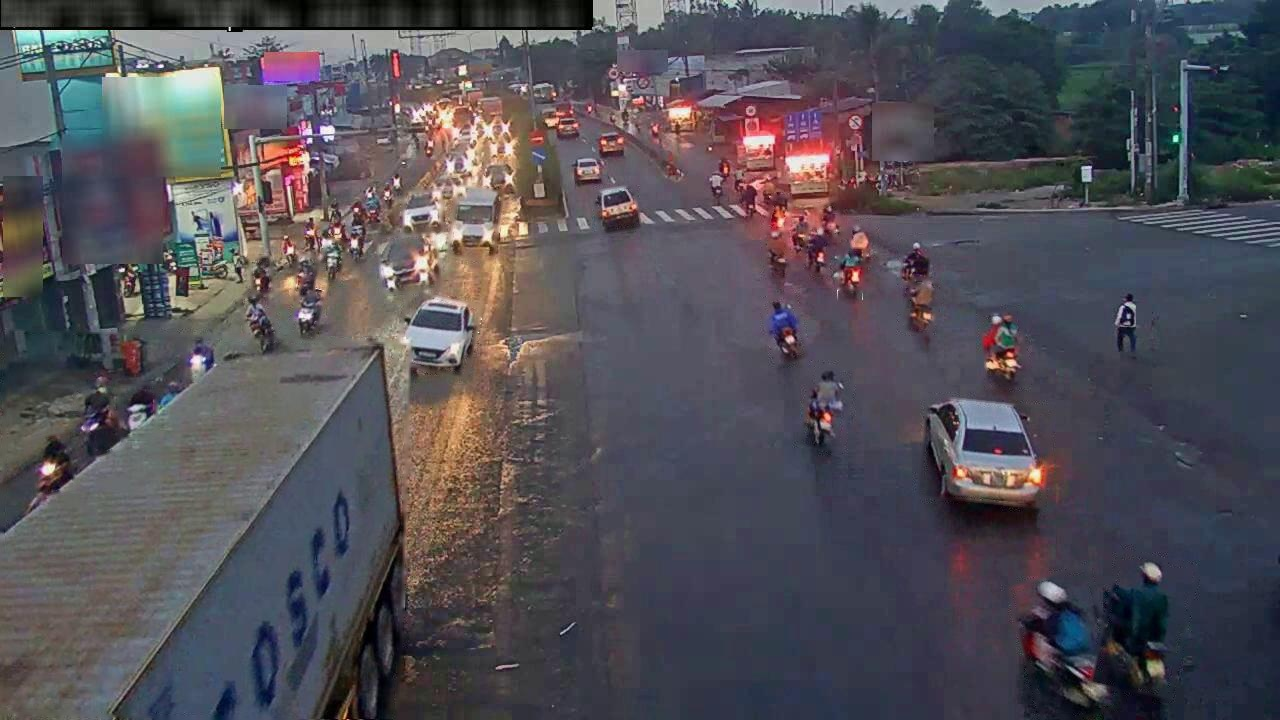Car: (924, 398, 1045, 508), (404, 297, 478, 373), (379, 233, 438, 289), (598, 187, 639, 230), (402, 194, 440, 230), (485, 163, 514, 191), (573, 157, 601, 184), (598, 132, 624, 156), (556, 114, 579, 137), (540, 106, 558, 128)
Motorcycle: (80, 408, 126, 458), (908, 304, 933, 340), (188, 350, 212, 383), (297, 303, 321, 335), (325, 248, 341, 280)
Motorcyclist: (1019, 580, 1109, 709), (1100, 561, 1168, 715), (806, 370, 843, 446), (833, 227, 870, 299), (984, 313, 1020, 381), (38, 437, 73, 493), (769, 300, 801, 358), (245, 294, 274, 353), (125, 384, 157, 431), (901, 242, 930, 285), (806, 230, 829, 274), (767, 230, 787, 278), (849, 225, 872, 263), (296, 257, 315, 294), (770, 193, 788, 232), (252, 257, 271, 293), (821, 204, 839, 239)
Pedestrian: (1114, 293, 1137, 355)
Truck: (0, 346, 406, 719), (450, 188, 500, 252)
